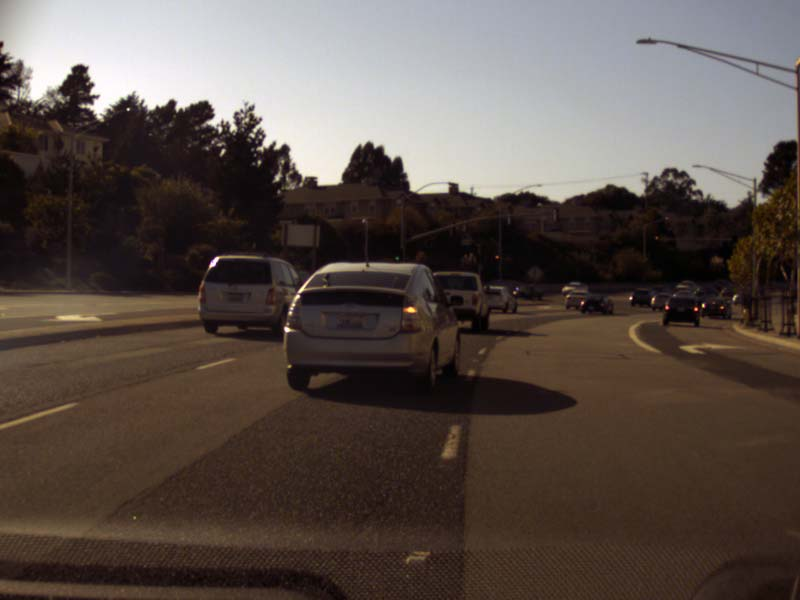Green: (393, 247, 400, 260)
Red: (653, 233, 659, 249), (494, 253, 499, 265)
